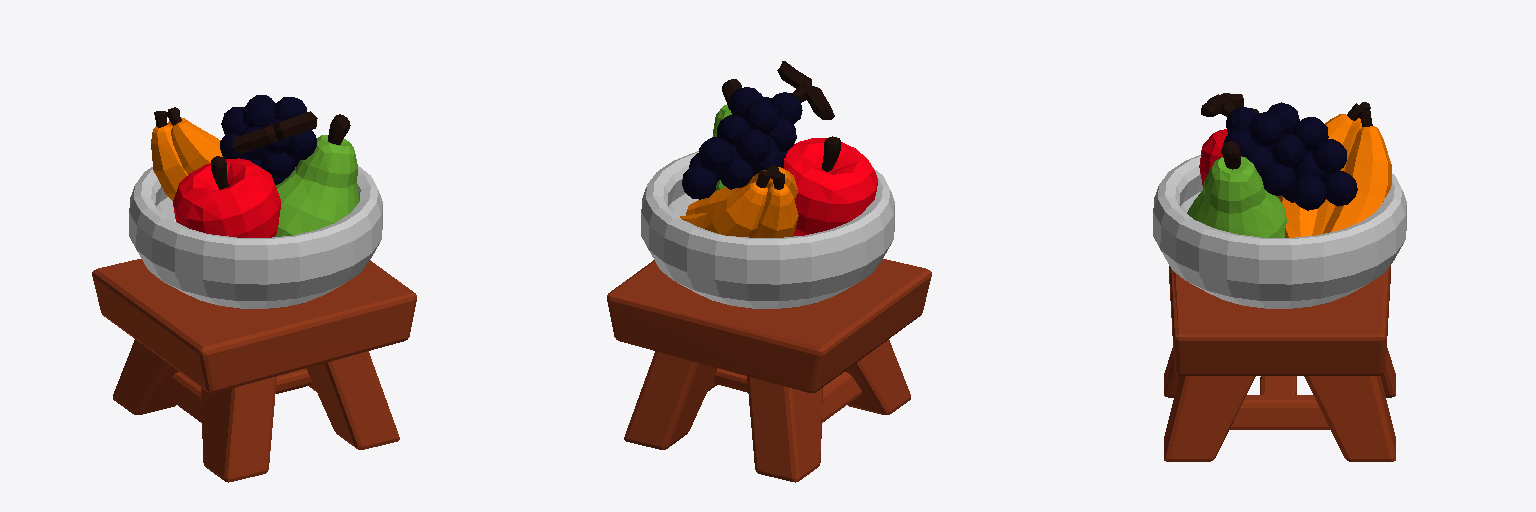
The model's file is stool_with_fruitbowl.obj.
3 views of the same model, side by side, from view 1: azimuth 30°, elevation 25°; view 2: azimuth 150°, elevation 25°; view 3: azimuth 270°, elevation 25° (orthographic).
Parts seen in each view (by area): view 1: stool_fruitbowl_Sphere.020, stool_with_fruitbowl_Cube.182; view 2: stool_fruitbowl_Sphere.020, stool_with_fruitbowl_Cube.182; view 3: stool_fruitbowl_Sphere.020, stool_with_fruitbowl_Cube.182.
Boxes of the visible parts, x1,y1,x2,y2 form: stool_fruitbowl_Sphere.020: [129, 95, 382, 308]; stool_with_fruitbowl_Cube.182: [92, 259, 416, 482]; stool_fruitbowl_Sphere.020: [641, 61, 894, 308]; stool_with_fruitbowl_Cube.182: [607, 259, 931, 482]; stool_fruitbowl_Sphere.020: [1153, 93, 1406, 308]; stool_with_fruitbowl_Cube.182: [1164, 265, 1395, 461].
Size of the model in its own units: 0.7455 by 1.07 by 0.744.